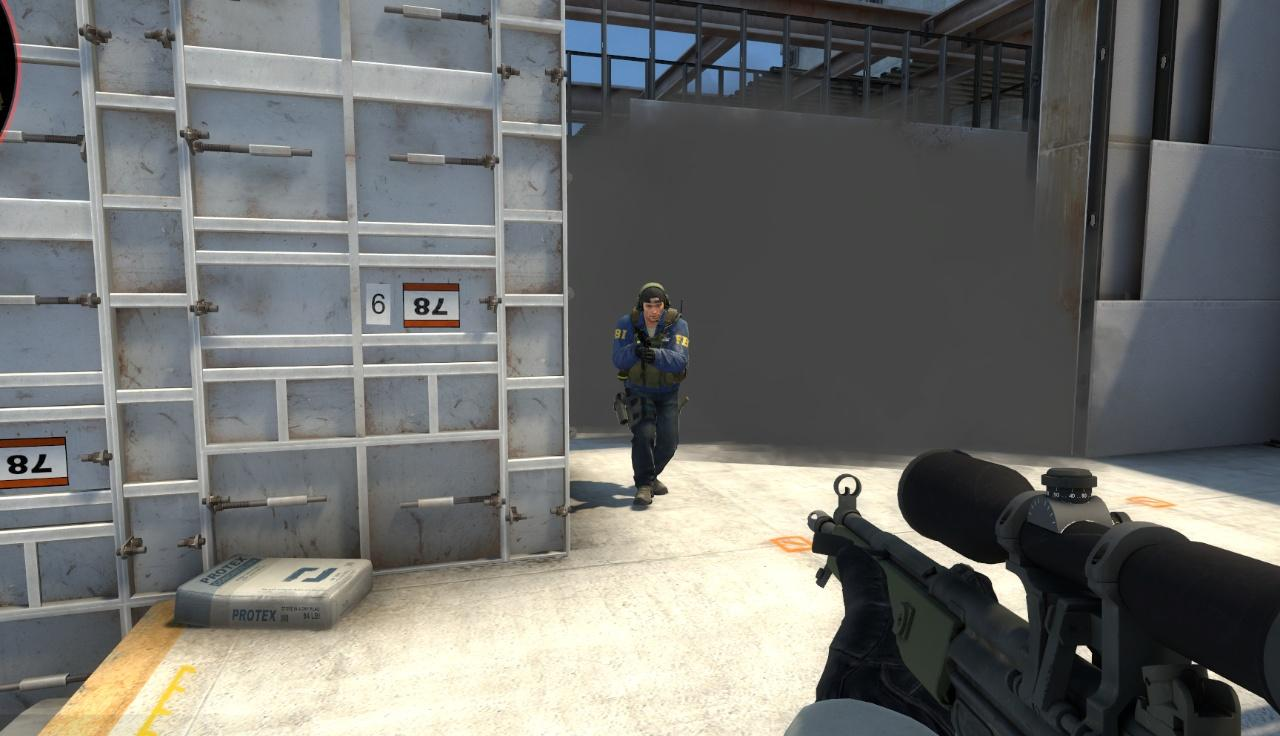ct: (613, 282, 685, 509)
cthead: (640, 283, 666, 323)
sniper: (799, 443, 1280, 736)
